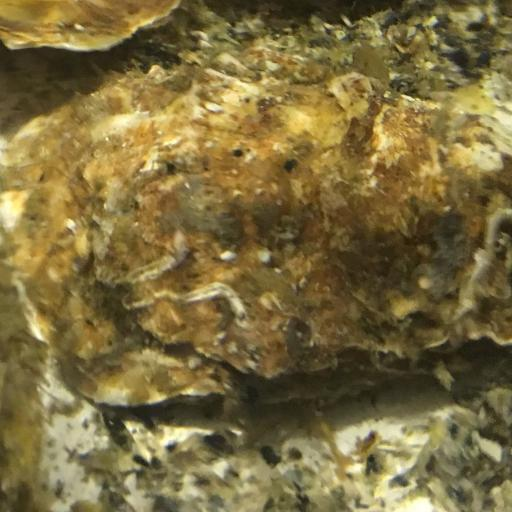Oyster-Closed: (38, 80, 512, 409), (1, 1, 177, 56)
